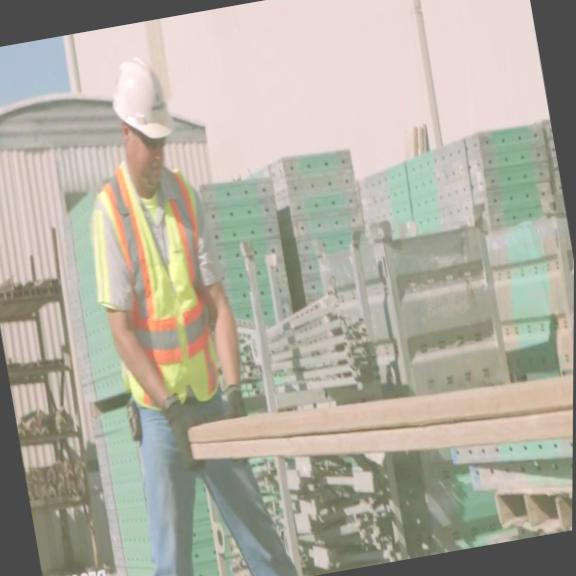safety_vest: (87, 147, 234, 415)
